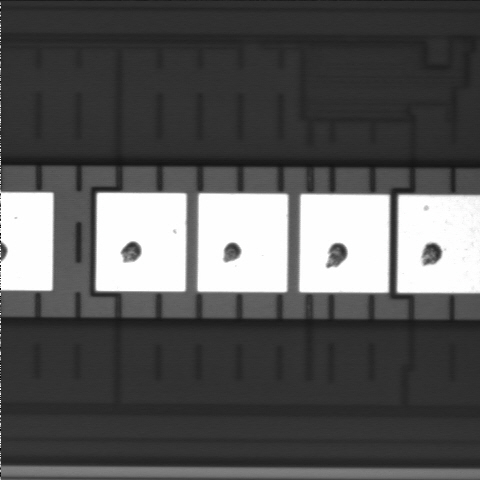pad: (198, 193, 288, 292), (299, 194, 389, 293), (96, 193, 186, 291)
